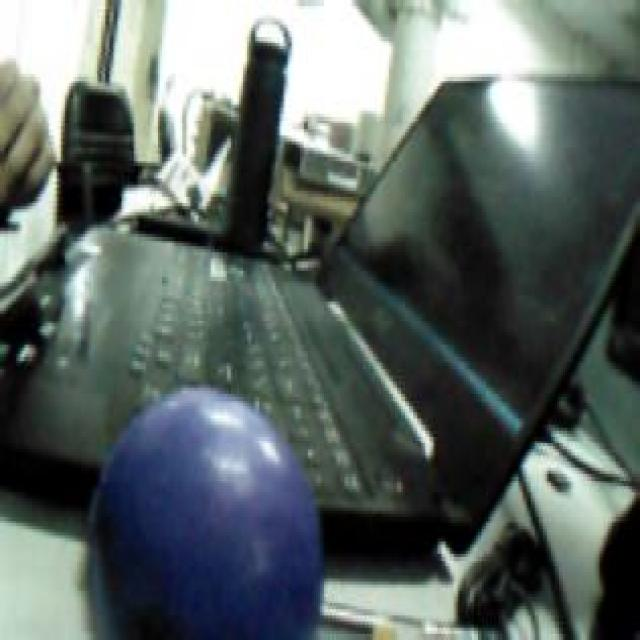BallPurple: (89, 383, 323, 640)
